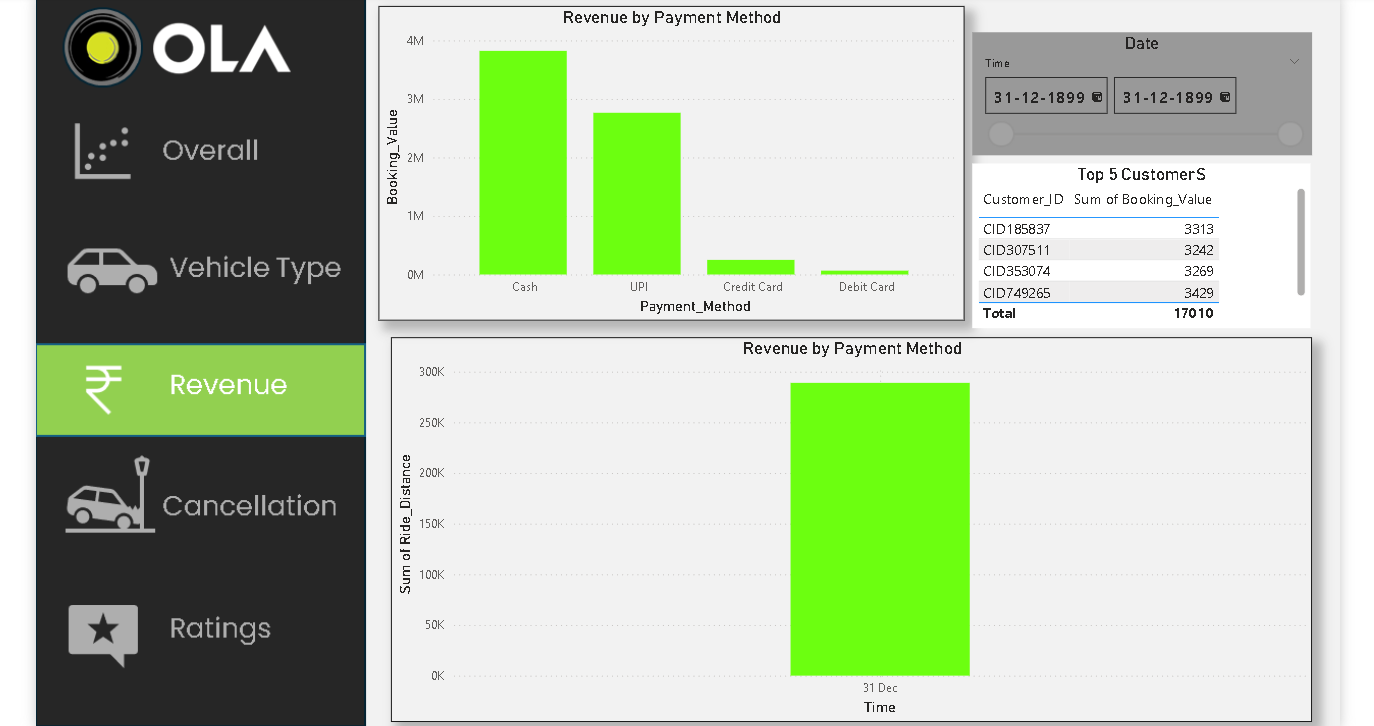

What the dashboard file says about the page in this screenshot:
{"tool":"powerbi","page":{"name":"Revenue","canvas":[1280,720],"ordinal":2},"visuals":[{"type":"actionButton","box":[0,343.6,322.7,88.3],"z":0},{"type":"actionButton","box":[0,444.2,322.7,88.3],"z":1000},{"type":"actionButton","box":[0,574.2,322.7,88.3],"z":2000},{"type":"actionButton","box":[0,212.3,322.7,88.3],"z":3000},{"type":"actionButton","box":[0,111.7,322.7,89.6],"z":4000},{"type":"columnChart","title":"Revenue by Payment Method","fields":{"Y":["Sum(July (2).Booking_Value)"],"Category":["July (2).Payment_Method"]},"box":[336.2,9.6,575,308.7],"z":5000},{"type":"columnChart","title":"Revenue by Payment Method","fields":{"Y":["Sum(July (2).Ride_Distance)"],"Category":["July (2).Time"]},"box":[348.5,334.8,904.3,377.4],"z":6000},{"type":"slicer","title":"Date","fields":{"Values":["July (2).Time"]},"box":[919.4,35.7,333.4,120.8],"z":7000},{"type":"tableEx","title":"Top 5 CustomerS","fields":{"Values":["July (2).Customer_ID","Sum(July (2).Booking_Value)"]},"box":[919.4,164.7,332.1,161.9],"z":8000}]}

Visuals, with their boxes on the page's 1280x720 design canvas (x1, y1, x2, y2). These are canvas units, not pixel positions in the 1374x726 screenshot, which may show the page scaled, cropped or inside an application window:
actionButton: (left=0, top=344, right=323, bottom=432)
actionButton: (left=0, top=444, right=323, bottom=532)
actionButton: (left=0, top=574, right=323, bottom=662)
actionButton: (left=0, top=212, right=323, bottom=301)
actionButton: (left=0, top=112, right=323, bottom=201)
"Revenue by Payment Method" columnChart: (left=336, top=10, right=911, bottom=318)
"Revenue by Payment Method" columnChart: (left=348, top=335, right=1253, bottom=712)
"Date" slicer: (left=919, top=36, right=1253, bottom=156)
"Top 5 CustomerS" tableEx: (left=919, top=165, right=1252, bottom=327)
